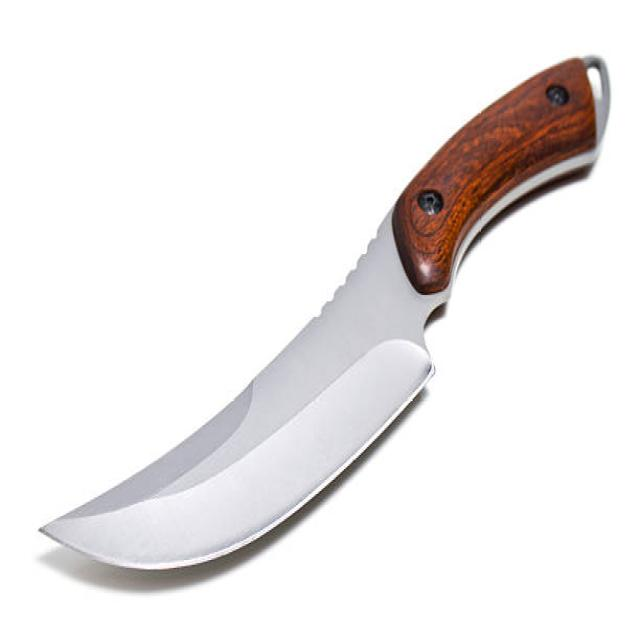knife: (30, 41, 620, 622)
